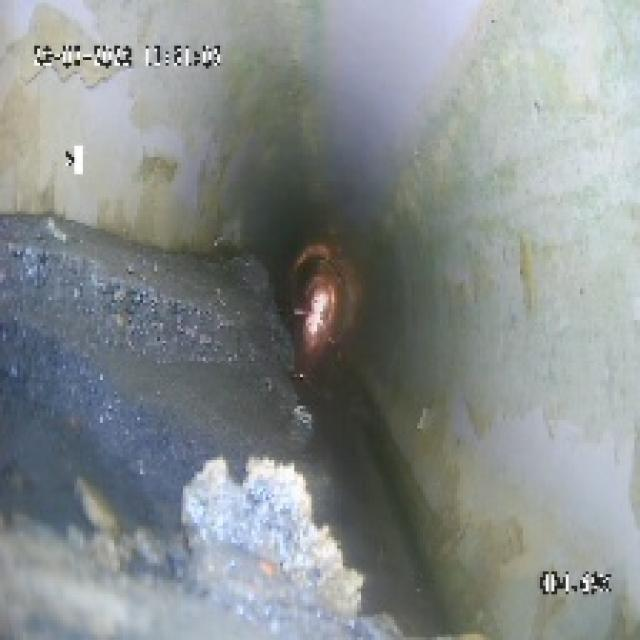sluge accumulation: (6, 214, 400, 620)
